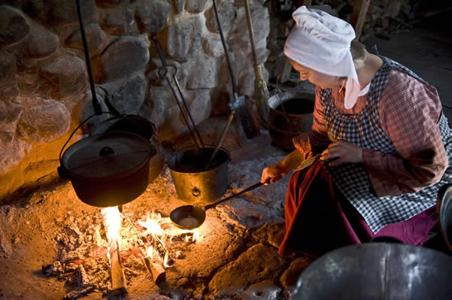person: (259, 8, 452, 259)
